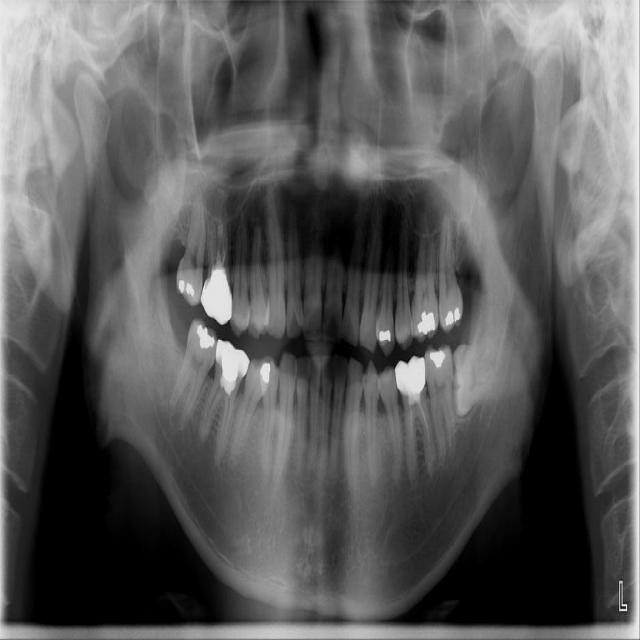Crown: (201, 273, 232, 325), (395, 355, 427, 397)
Filling: (215, 339, 250, 393), (193, 322, 215, 350), (413, 311, 436, 336), (425, 348, 445, 368), (257, 361, 272, 387), (444, 306, 462, 327), (177, 277, 194, 298), (378, 329, 394, 344)
Root Canal Treatment: (419, 405, 429, 444), (219, 227, 226, 267), (211, 241, 217, 269)
impacted tooth: (453, 340, 533, 416)
